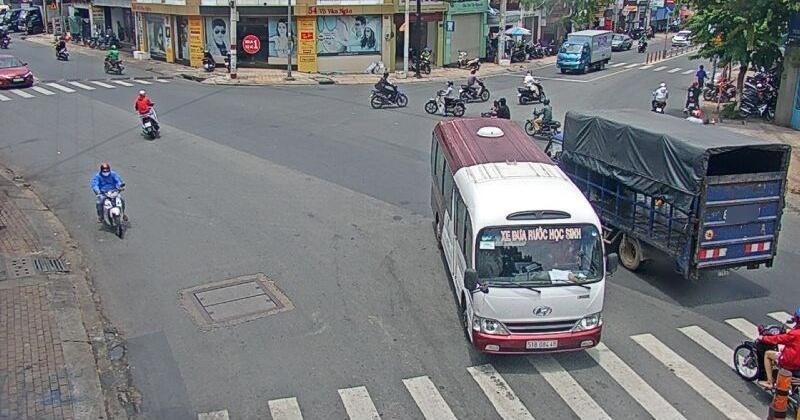xe buyt: (424, 122, 612, 353)
xe may: (90, 160, 126, 237), (524, 95, 562, 138), (427, 79, 465, 119), (371, 69, 408, 108), (135, 91, 163, 142)
xe tai: (549, 100, 794, 278), (553, 32, 607, 75)
